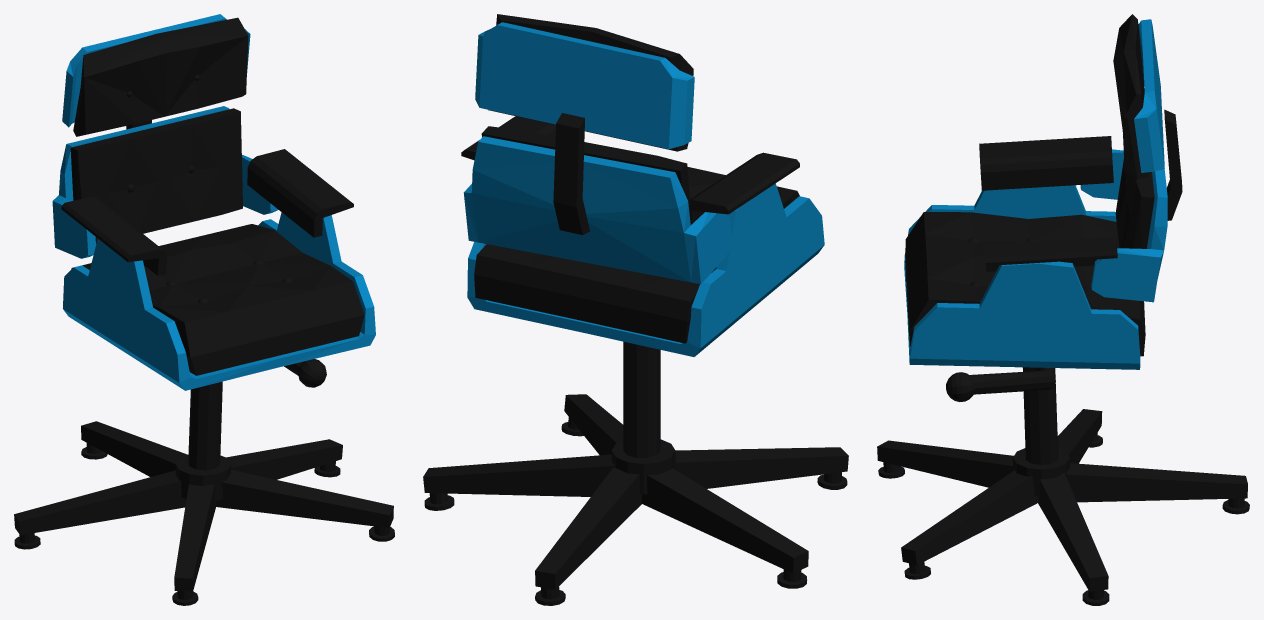
The model's file is chair.gltf.
3 views of the same model, side by side, from view 1: azimuth 30°, elevation 25°; view 2: azimuth 150°, elevation 25°; view 3: azimuth 270°, elevation 25° (orthographic). The views are drawn at different scales.
Visible parts, largest first — view 1: node_MeshObject-210038784-PolyPaper23; view 2: node_MeshObject-210038784-PolyPaper23; view 3: node_MeshObject-210038784-PolyPaper23.
Part boxes in pixels (x1,y1,x2,y2): node_MeshObject-210038784-PolyPaper23: (14, 14, 394, 605); node_MeshObject-210038784-PolyPaper23: (423, 14, 848, 605); node_MeshObject-210038784-PolyPaper23: (877, 14, 1249, 605).
Size of the model in its own units: 1.16 by 1.57 by 1.11.
